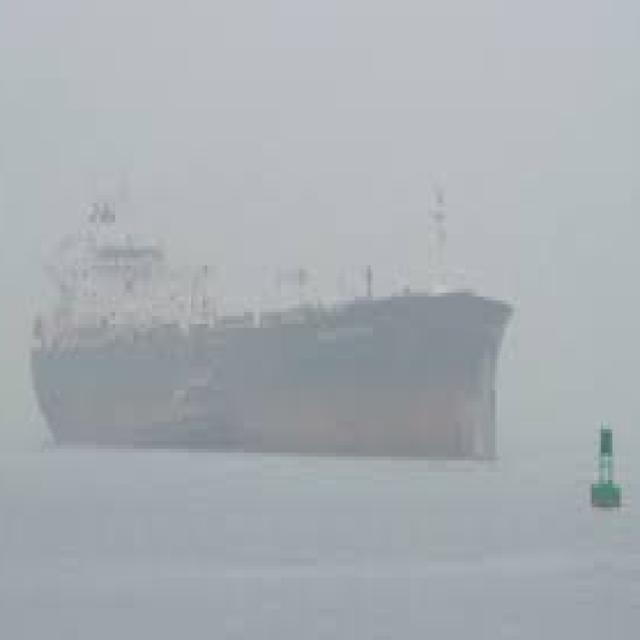cargoship: (32, 192, 513, 466)
